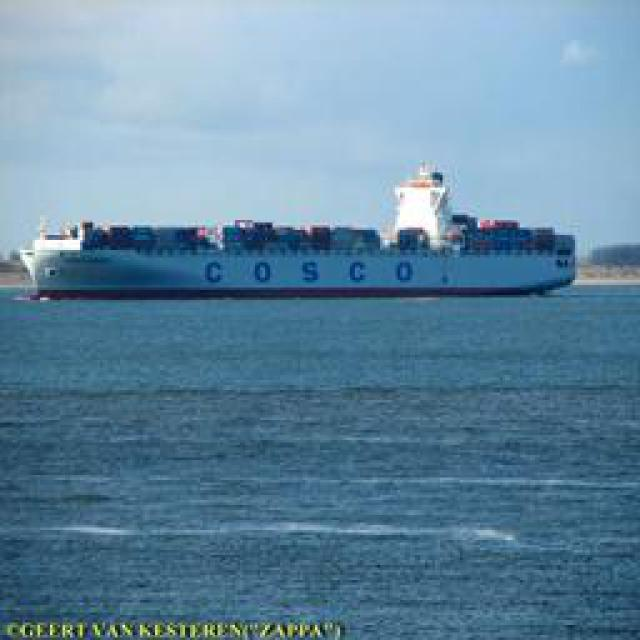Ship: (46, 159, 574, 302)
